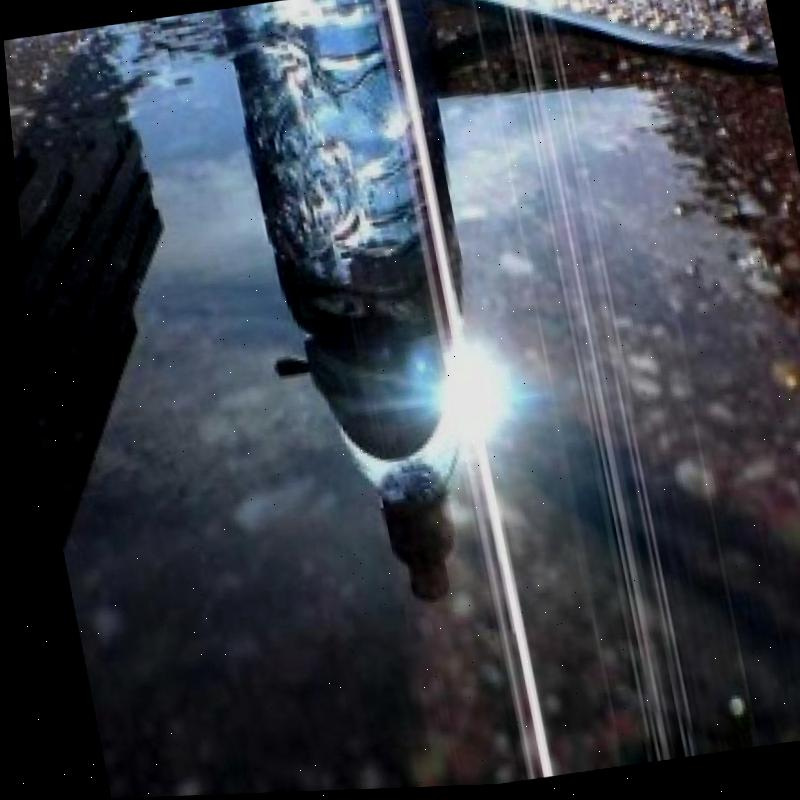botella: (216, 0, 521, 617)
